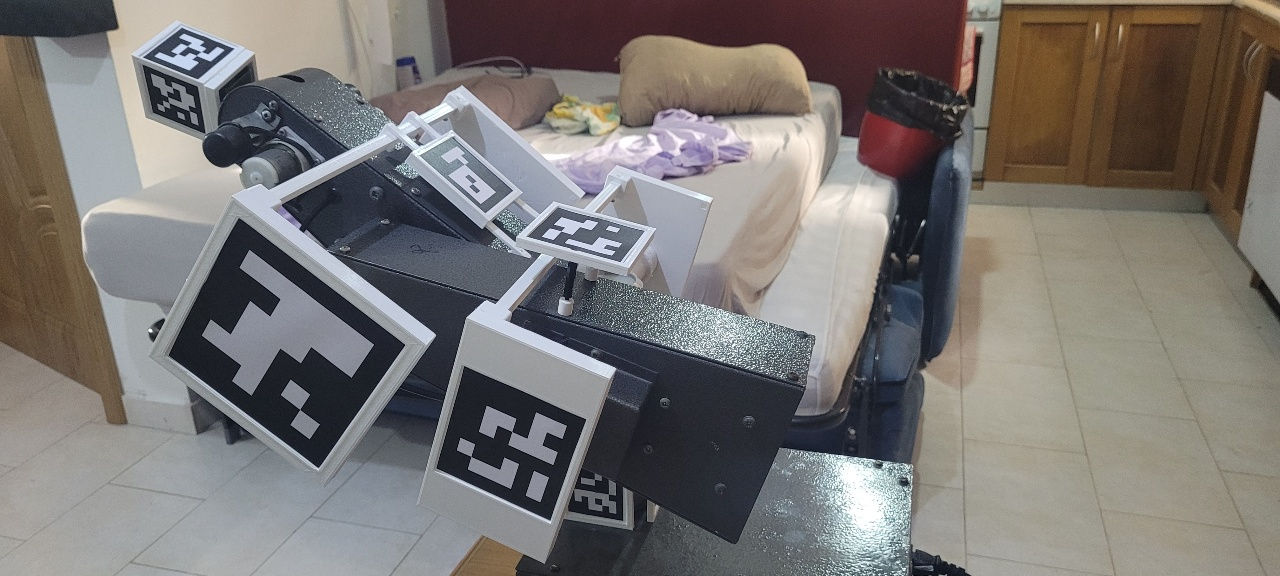Robot: (130, 20, 816, 567)
